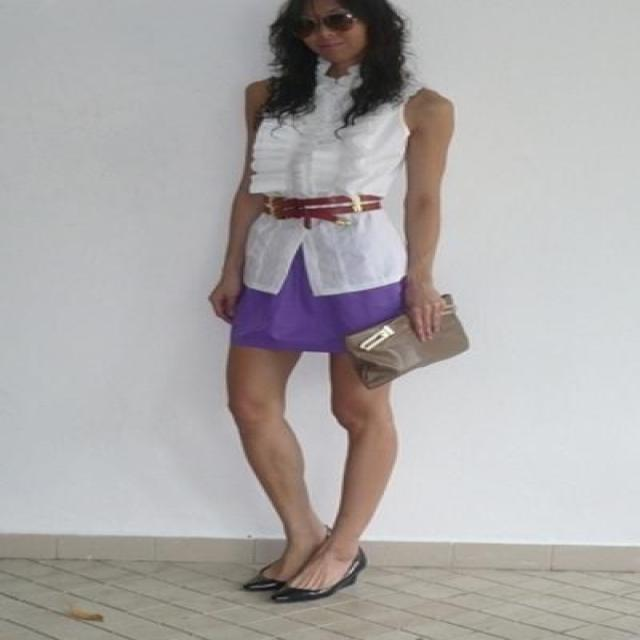bag: (349, 294, 467, 381)
shirt: (246, 64, 416, 295)
shoe: (240, 550, 365, 603)
skirt: (229, 254, 400, 355)
sunglass: (310, 0, 352, 32)
